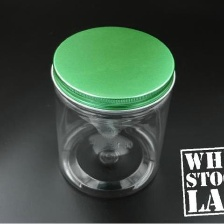plastic_box: (43, 20, 181, 207)
